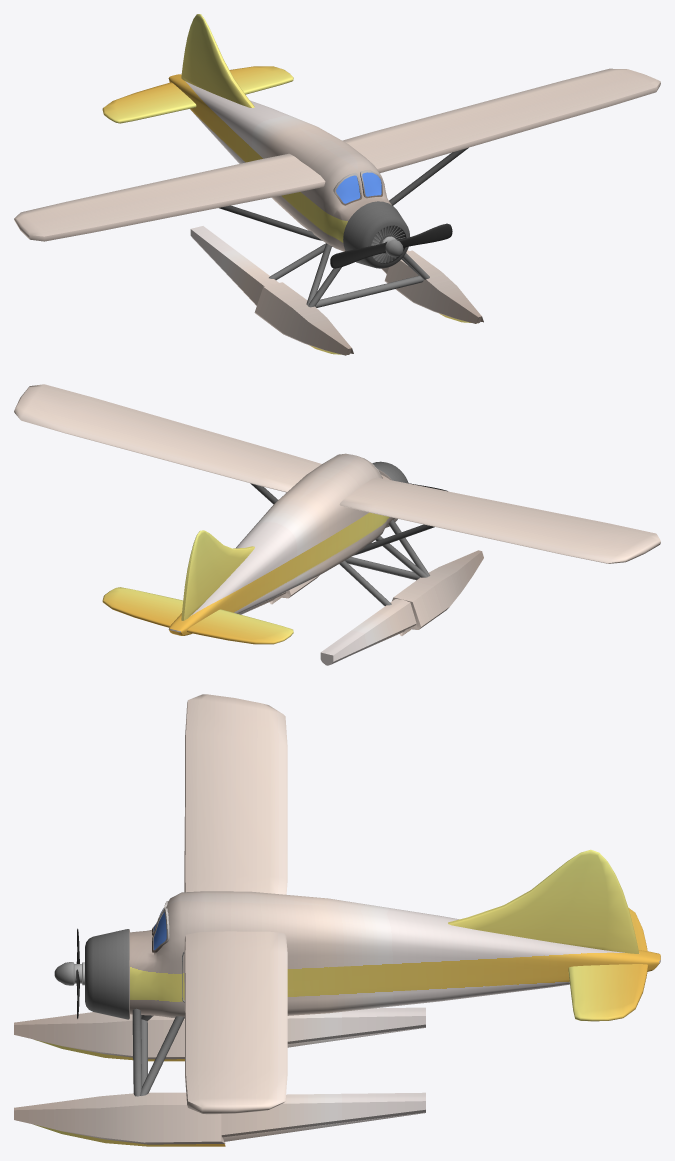
3 renders of one model, top to bottom at view 1: azimuth 30°, elevation 25°; view 2: azimuth 150°, elevation 25°; view 3: azimuth 270°, elevation 25°, orthographic. The views are drawn at different scales.
Visible parts, largest first — view 1: Plane; view 2: Plane; view 3: Plane.
Boxes of the visible parts, x1,y1,x2,y2 form: Plane: [14, 14, 660, 355]; Plane: [14, 384, 660, 665]; Plane: [14, 694, 660, 1146].
Size of the model in its own units: 12.26 by 3.5 by 8.1.
1 material, 1 textured.
